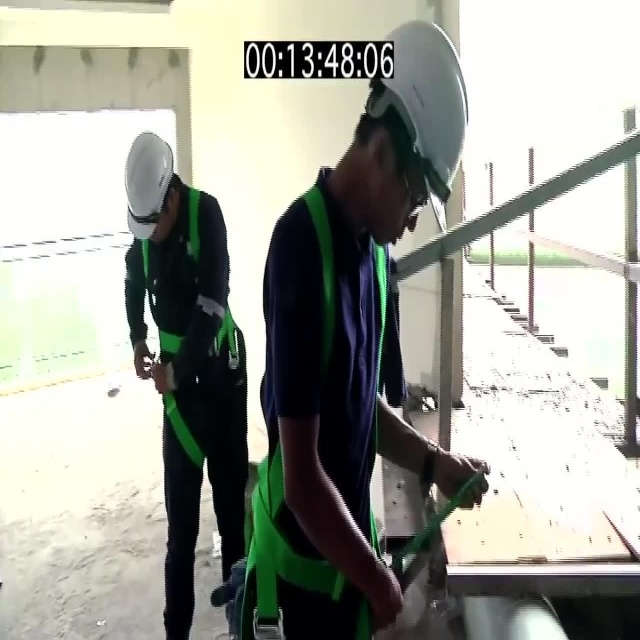Arnes_seguridad: (252, 183, 395, 609), (140, 177, 239, 463)
